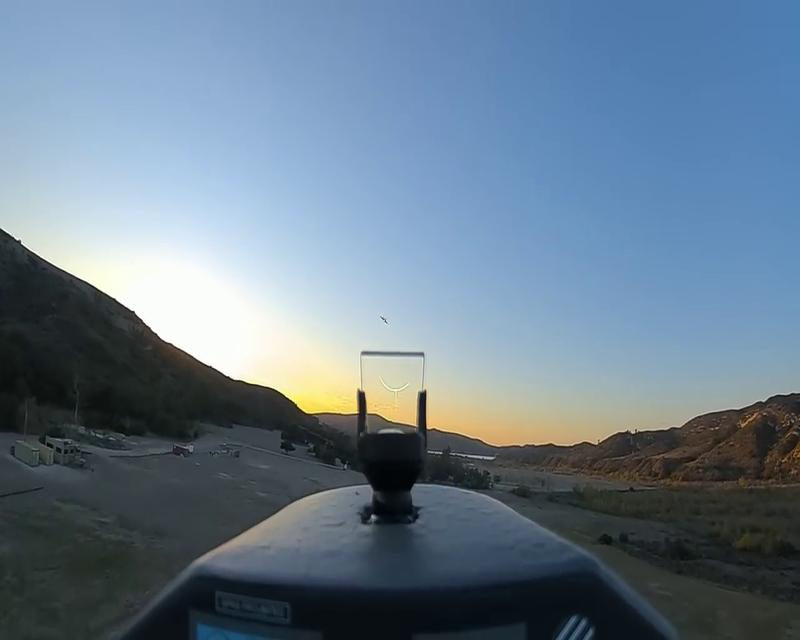UAV: (379, 314, 389, 324)
